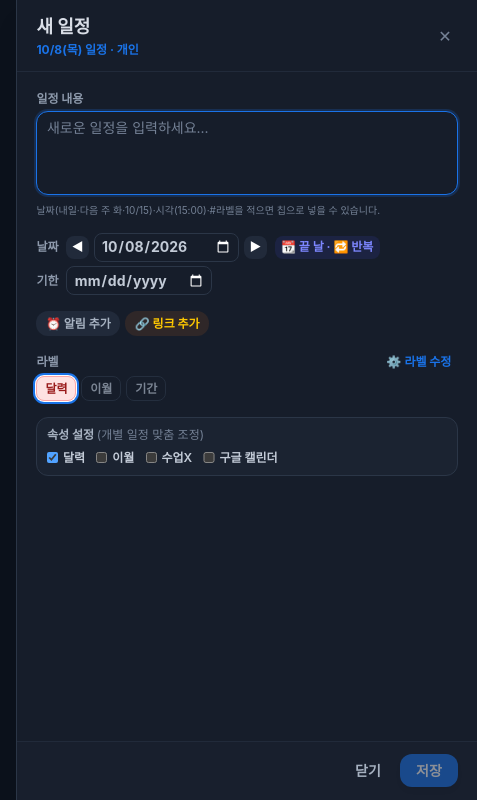
Scenario: 기간 (끝 날 줄) › '기간' 속성 라벨을 고른 새 일정 칸은 끝 날 줄을 펴 둔다
The width and height of the screenshot is (477, 800).
Click the button "기간" at {"x": 146, "y": 389}, box [126, 376, 166, 401]
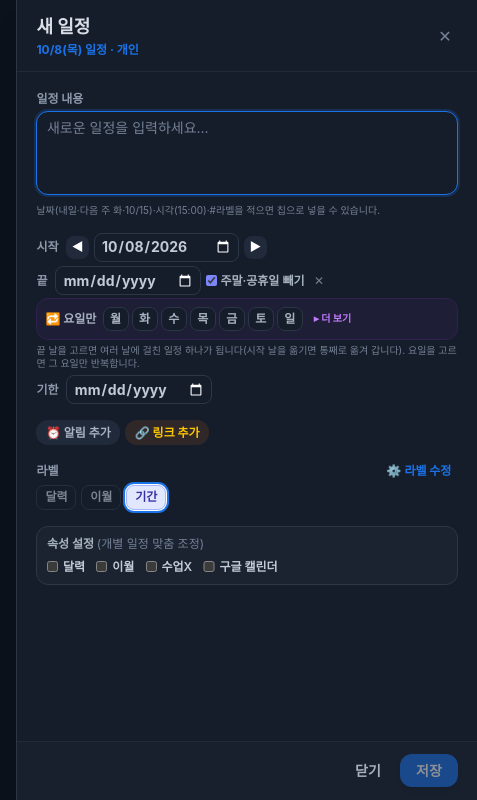
Check: the element that starts with "주말·공휴일 빼기" is shown, box [36, 266, 458, 370]
